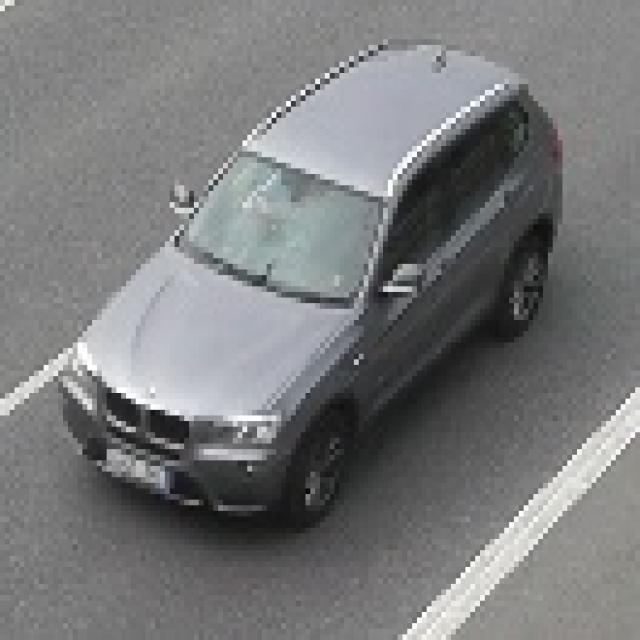SUV: (94, 43, 516, 496)
